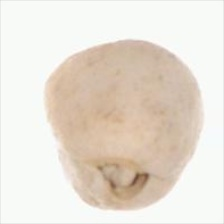L3: (91, 157, 151, 201)
L4: (43, 39, 205, 211)
